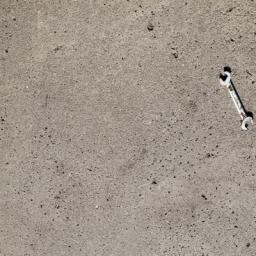FOD: (215, 65, 256, 134)
